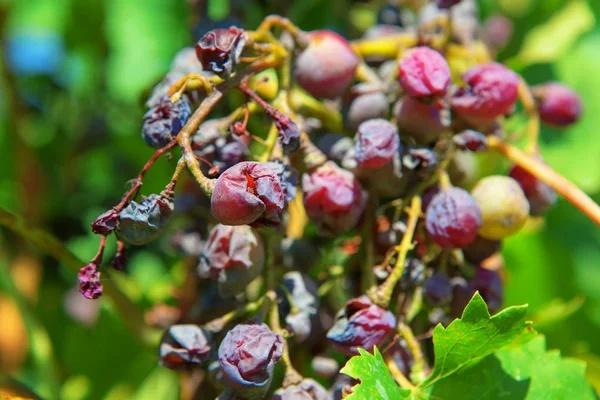Grape Rotten: (78, 0, 583, 400), (210, 160, 288, 227)
